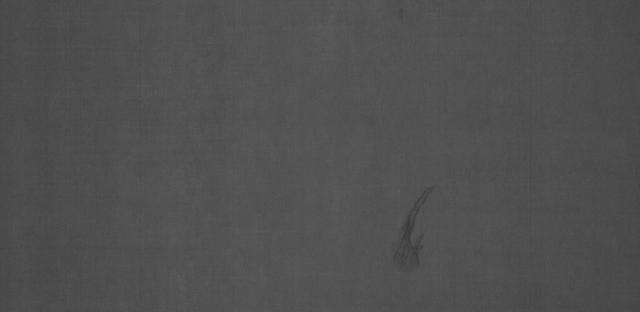water_spot: (380, 183, 448, 281)
